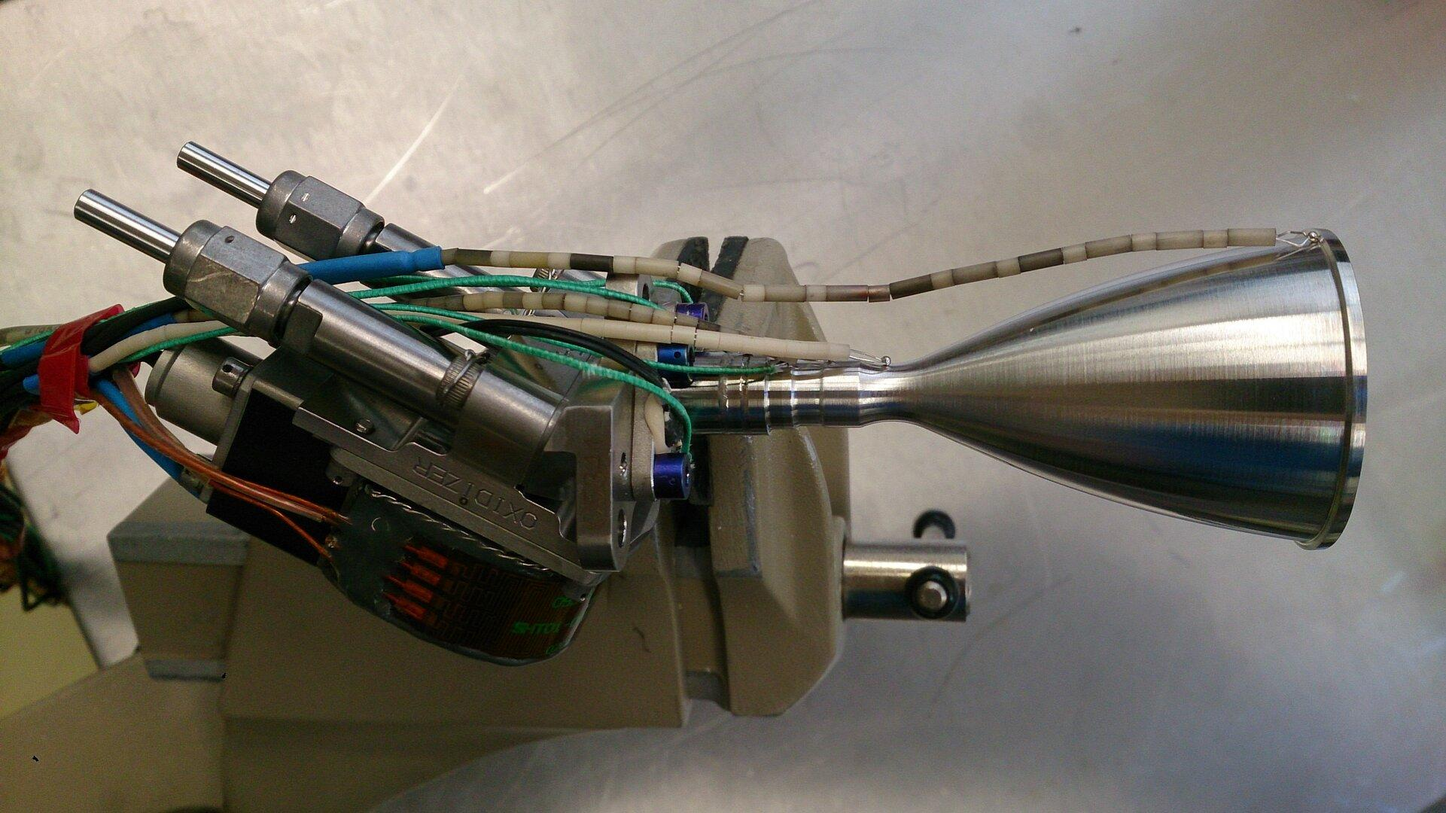thruster: (903, 227, 1372, 547)
